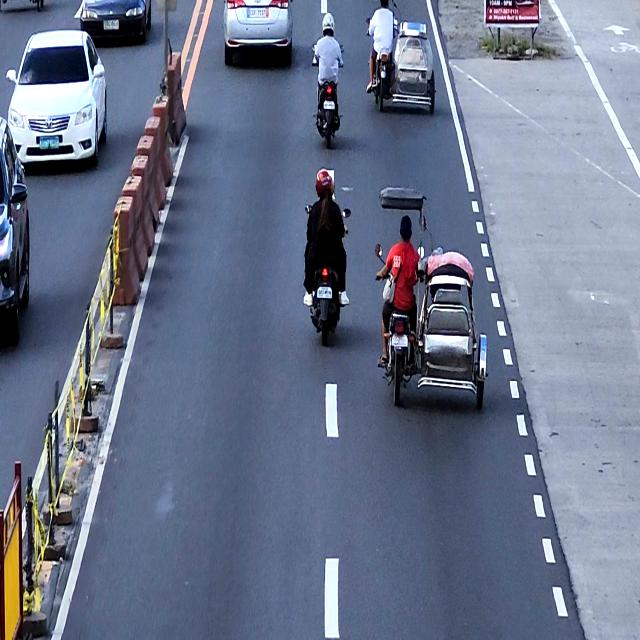Car: (6, 29, 107, 167), (0, 116, 30, 343), (223, 0, 293, 65), (79, 0, 152, 44)
License-Plate: (38, 136, 60, 150), (391, 331, 409, 348), (316, 285, 333, 300), (249, 6, 267, 20), (103, 20, 119, 31), (323, 100, 335, 110)
Motorcycle: (303, 204, 351, 347), (311, 43, 344, 148)
Tricycle: (375, 186, 488, 410), (365, 8, 437, 116)
